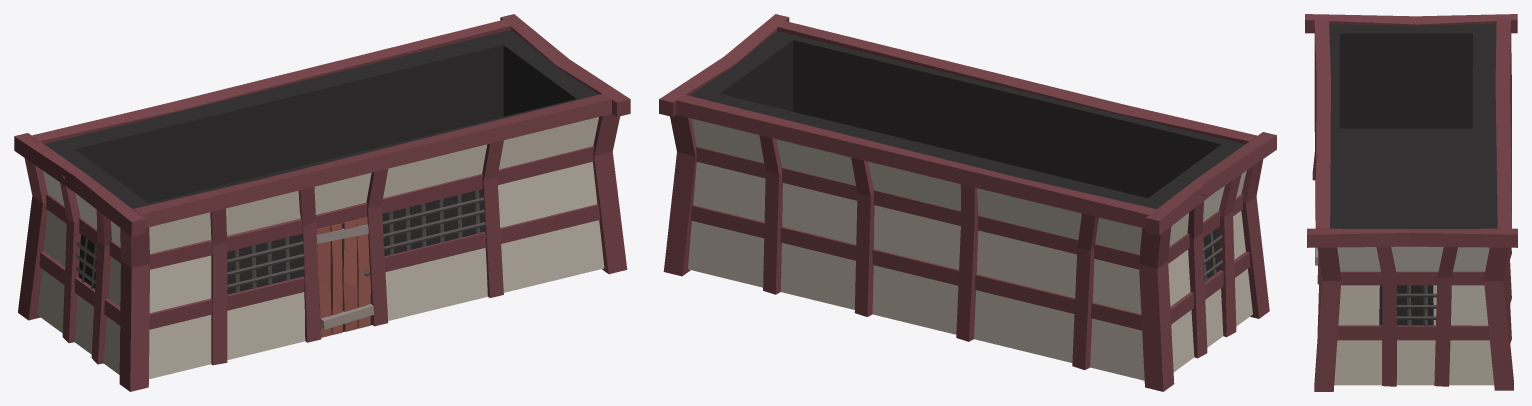
Rendered from Mountain_Floor_Large.fbx.
3 views of the same model, side by side, from view 1: azimuth 30°, elevation 25°; view 2: azimuth 150°, elevation 25°; view 3: azimuth 270°, elevation 25° (orthographic). The views are drawn at different scales.
Parts seen in each view (by area): view 1: Mountain_Floor_Large; view 2: Mountain_Floor_Large; view 3: Mountain_Floor_Large.
Boxes of the visible parts, x1,y1,x2,y2 form: Mountain_Floor_Large: [14, 14, 630, 391]; Mountain_Floor_Large: [659, 14, 1276, 391]; Mountain_Floor_Large: [1305, 14, 1517, 391].
Bounding box in the file's own units: 279 × 113 × 92.24.
